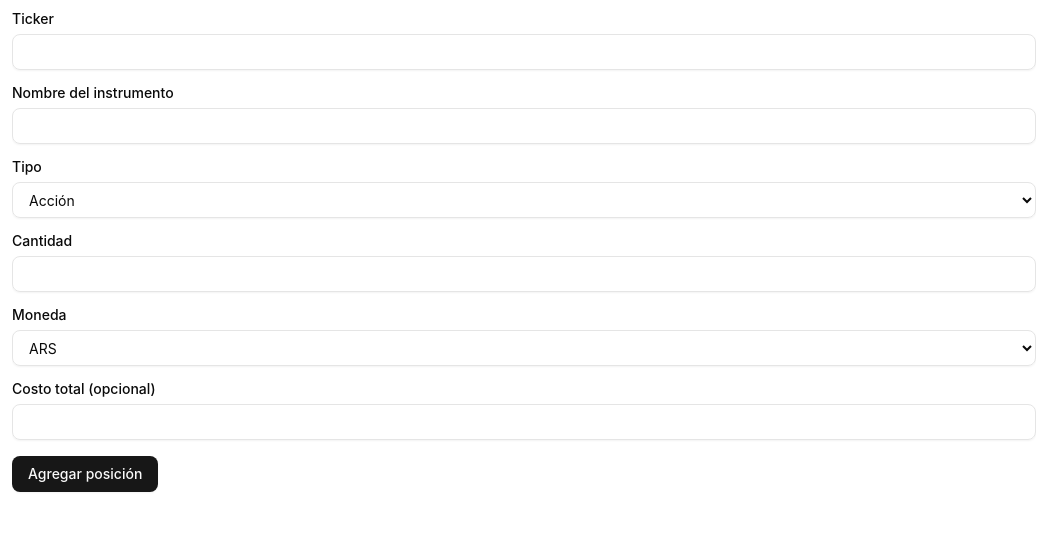
Test: AddHoldingForm › shows a field error and sends nothing for quantity 0 (AC-03)
In the field labelled "Ticker": coordinates (524, 52) [12, 34, 1036, 70], type "AAPL"
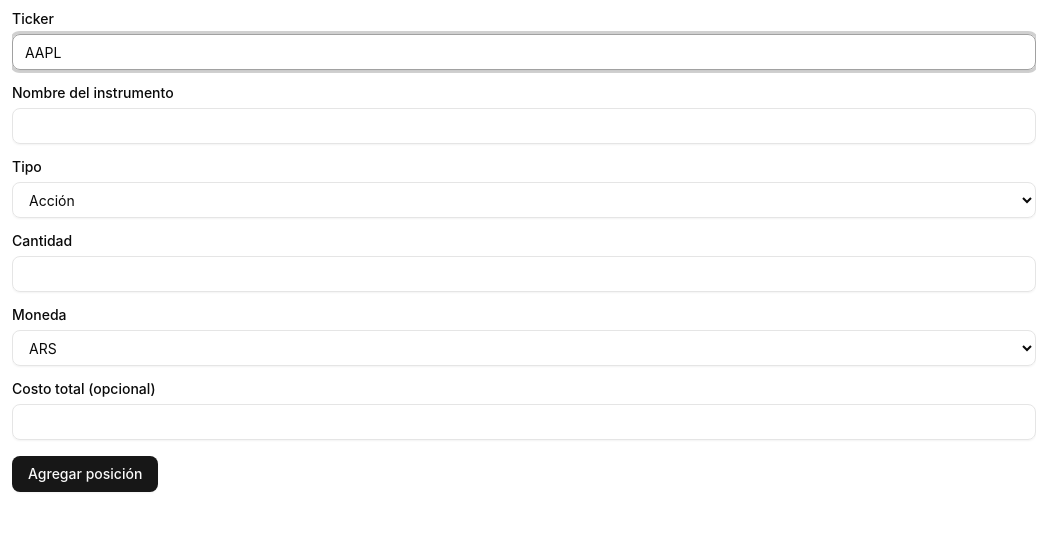
In the field labelled "Nombre del instrumento": coordinates (524, 126) [12, 108, 1036, 144], type "Apple"
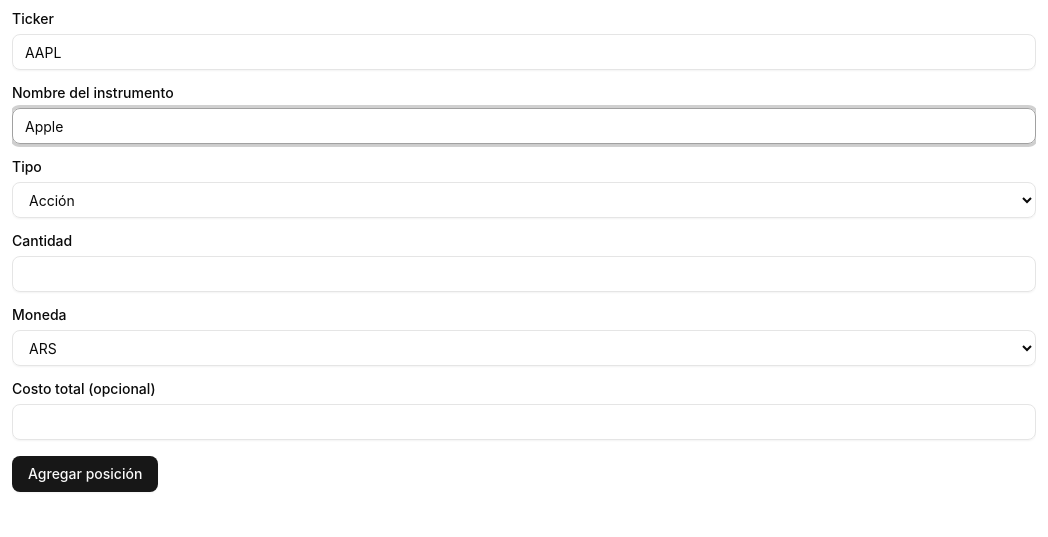
In the field labelled "Cantidad": coordinates (524, 274) [12, 256, 1036, 292], type "0"
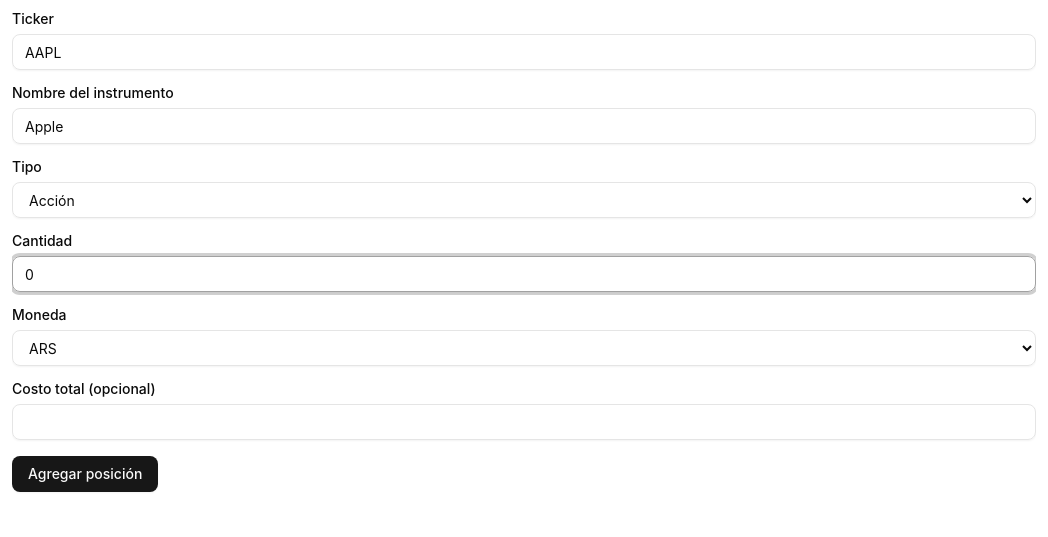
Click the button "Agregar posición": coordinates (85, 474) [12, 456, 158, 492]
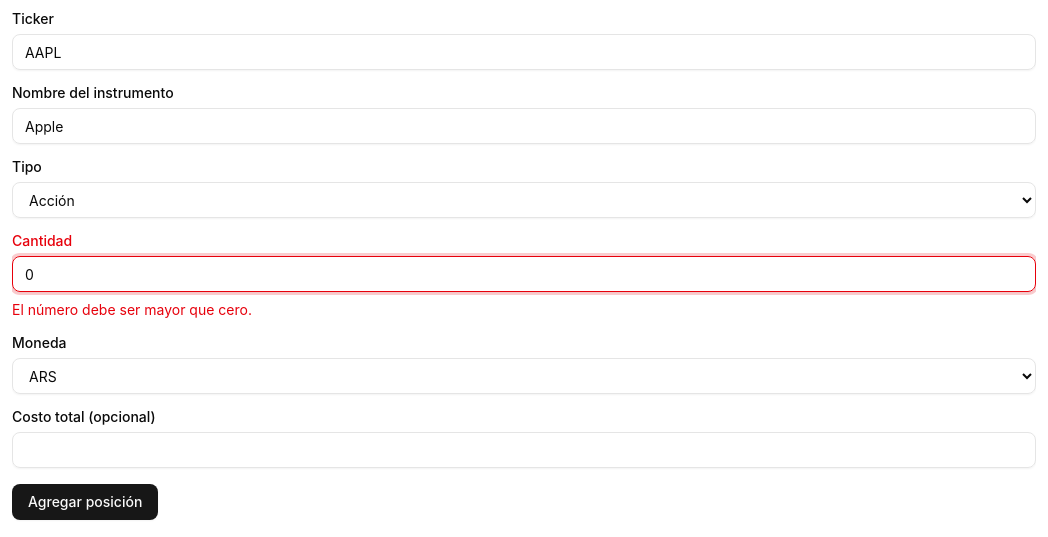
expect the text "El número debe ser mayor que cero." is shown: met, box [12, 301, 252, 318]
